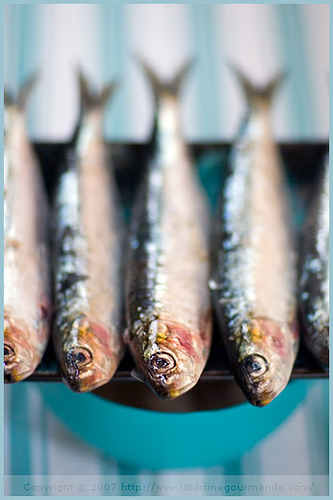fish: (215, 51, 304, 407), (123, 51, 211, 402), (50, 82, 130, 393), (0, 67, 52, 383), (299, 146, 330, 371)
